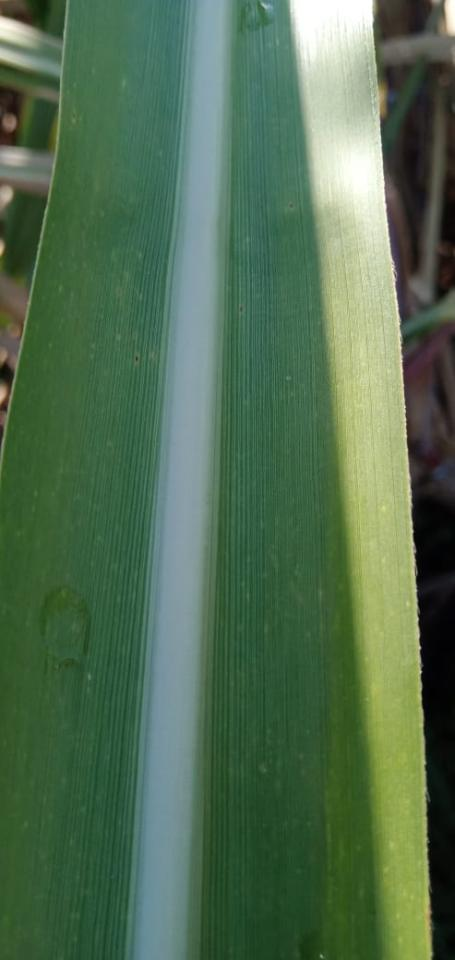Healthy: (0, 0, 429, 959)
